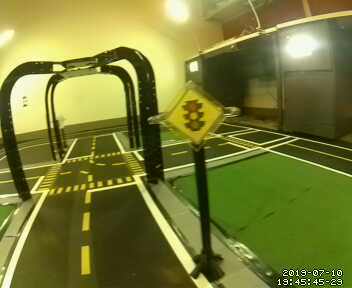Traffic light sign: (167, 85, 222, 144)
